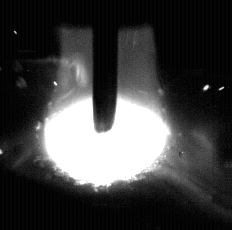arame: (93, 0, 118, 133)
poca: (44, 0, 168, 230)
